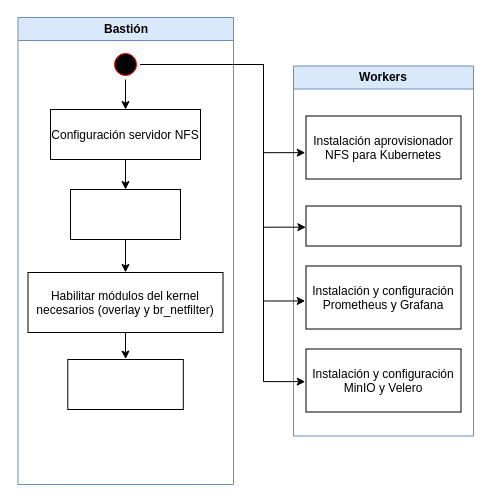
Image size: 491x502. Some labels were removed from this diagram. The shapes that lost their labels are listed below. From the top down, each one's box as (x1, y1, x2, y2) in pixels, then its label:
(70, 188, 180, 240): Habilitar servicio servidor NFS
(305, 205, 461, 246): Instalación ingress-nginx
(67, 358, 183, 410): Desactivar memoria swap
